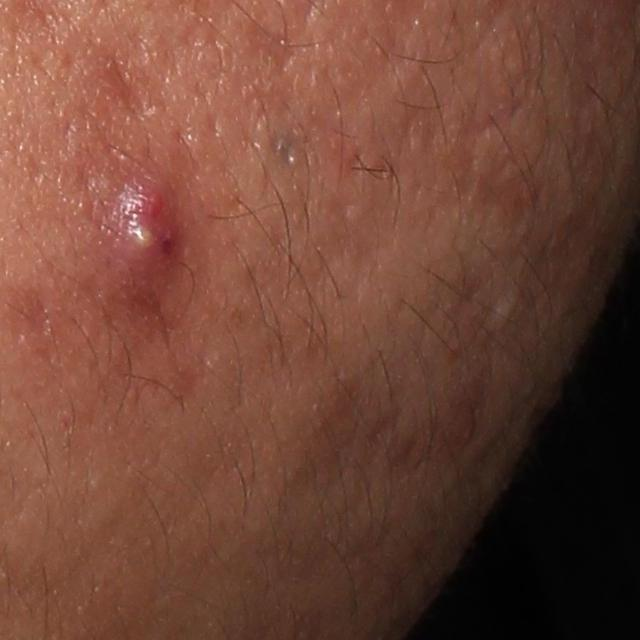pustule: (100, 163, 177, 318)
